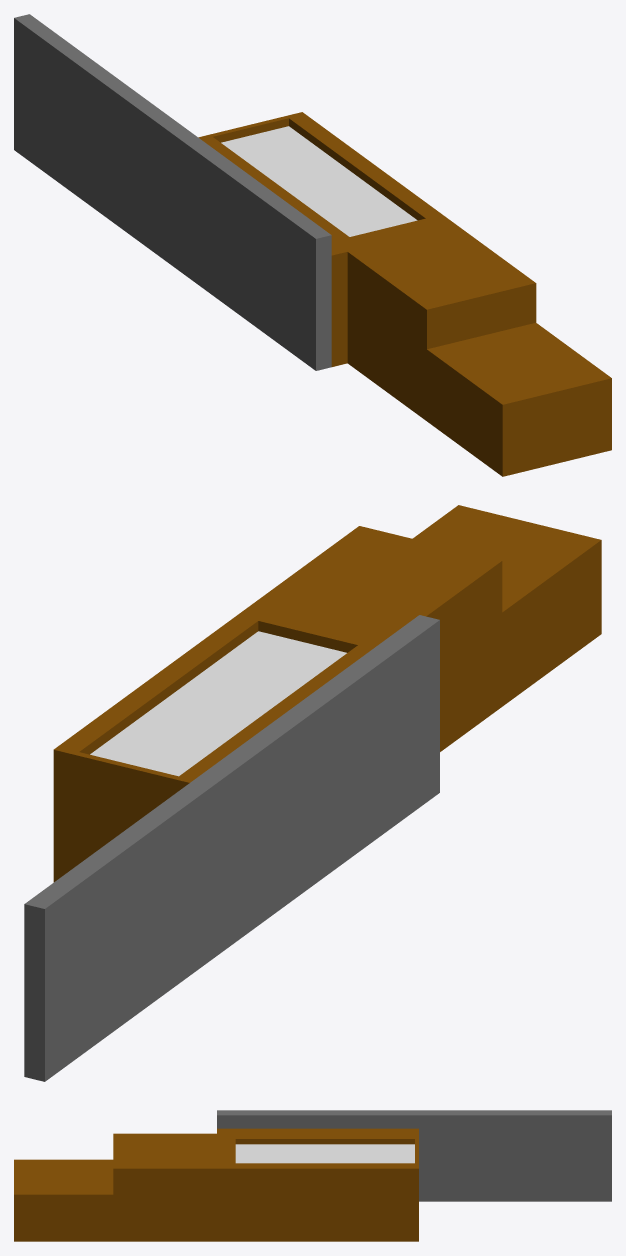
The model's file is Grocery counter.fbx.
The picture shows the model from 3 angles, top to bottom: view 1: azimuth 30°, elevation 25°; view 2: azimuth 150°, elevation 25°; view 3: azimuth 270°, elevation 25°; orthographic projection. The views are drawn at different scales.
Visible parts, largest first — view 1: pCube1; view 2: pCube1; view 3: pCube1.
Boxes of the visible parts, x1,y1,x2,y2 form: pCube1: (14,14,611,476); pCube1: (24,505,601,1081); pCube1: (14,1110,611,1241).
Size of the model in its own units: 11.47 by 10.28 by 64.46.
